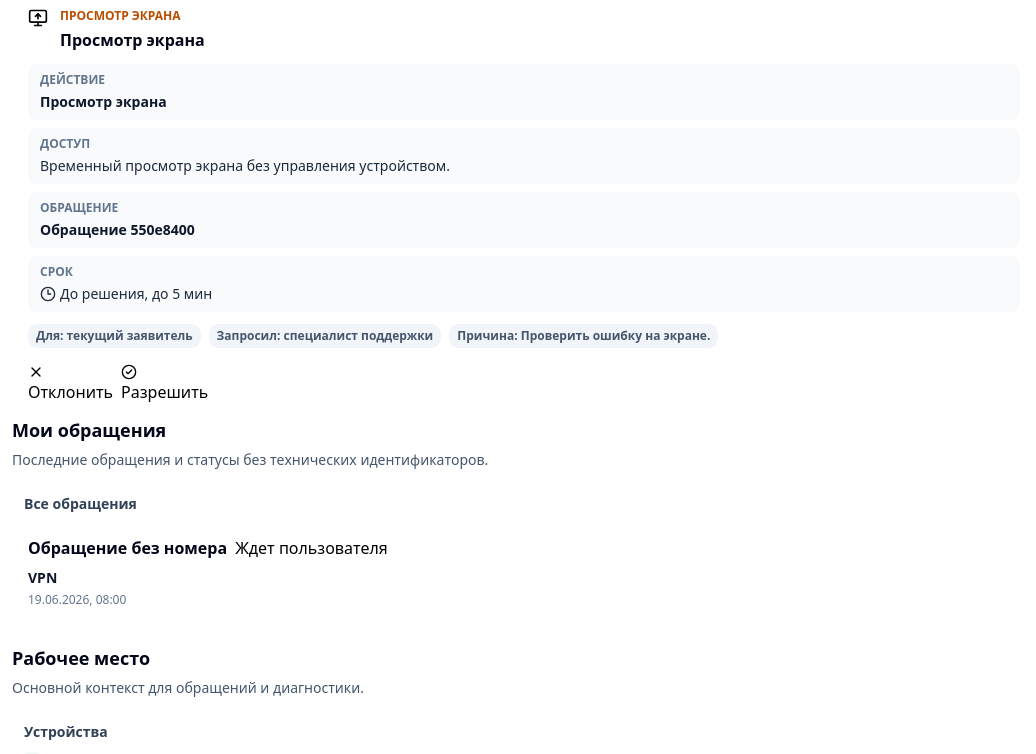
RequesterHomePage › renders a task-focused dashboard without loading forms, chat or device-link flows
The image size is (1036, 754).
(page scrolled)
Check: the 1st text "Просмотр экрана" is shown, box [60,7,180,24]
Check: the text "Обращение 550e8400" is shown, box [40,220,195,239]
Click the button with aria-label "Разрешить запрос согласия". click: (165, 384)
box: [121,364,208,404]
(page scrolled)
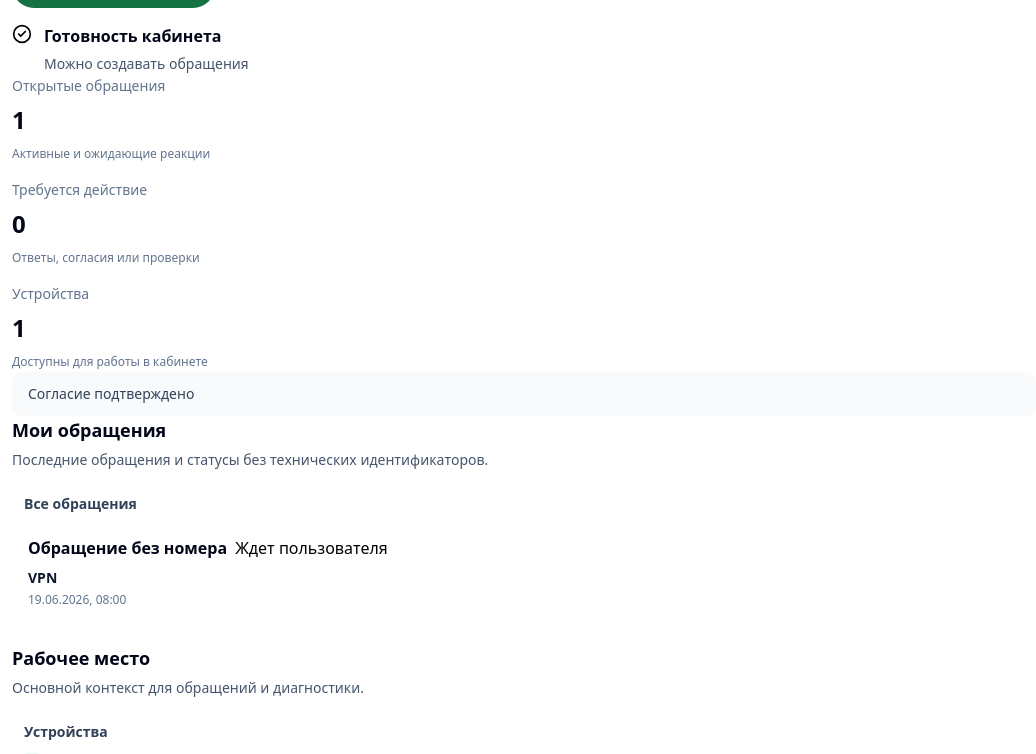
Check: the text "Согласие подтверждено" is shown, box [12,372,1035,416]
